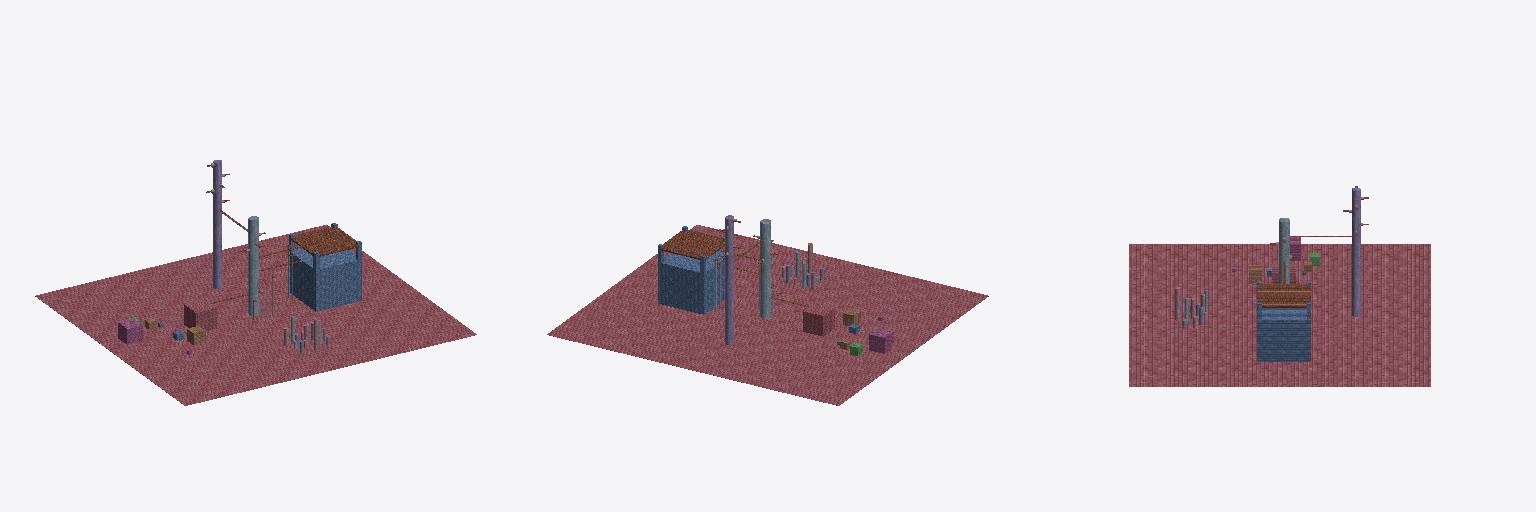
The picture shows the model from 3 angles: view 1: azimuth 30°, elevation 25°; view 2: azimuth 150°, elevation 25°; view 3: azimuth 270°, elevation 25°; orthographic projection.
Visible parts, largest first — view 1: Floor_Cube_Cube.001, Cube_1_Cube.002, Cube.012_Cube.027, Tower_Cylinder, Tower.2_Cylinder.001, Cube_Cube.011, Cube.007_Cube.019; view 2: Floor_Cube_Cube.001, Cube_1_Cube.002, Cube.012_Cube.027, Tower_Cylinder, Tower.2_Cylinder.001, Cube_Cube.011; view 3: Floor_Cube_Cube.001, Cube_1_Cube.002, Cube.012_Cube.027, Tower_Cylinder, Tower.2_Cylinder.001.
Boxes of the visible parts, <box> form: Floor_Cube_Cube.001: <box>35,225,476,405</box>; Cube_1_Cube.002: <box>290,248,361,311</box>; Cube.012_Cube.027: <box>291,226,357,256</box>; Tower_Cylinder: <box>213,160,221,288</box>; Tower.2_Cylinder.001: <box>248,216,258,315</box>; Cube_Cube.011: <box>184,299,216,330</box>; Cube.007_Cube.019: <box>118,319,142,344</box>; Floor_Cube_Cube.001: <box>547,225,988,405</box>; Cube_1_Cube.002: <box>658,251,724,314</box>; Cube.012_Cube.027: <box>661,230,724,259</box>; Tower_Cylinder: <box>725,215,733,344</box>; Tower.2_Cylinder.001: <box>760,219,770,318</box>; Cube_Cube.011: <box>803,303,834,336</box>; Floor_Cube_Cube.001: <box>1129,244,1430,386</box>; Cube_1_Cube.002: <box>1257,300,1310,361</box>; Cube.012_Cube.027: <box>1258,284,1310,307</box>; Tower_Cylinder: <box>1352,187,1360,316</box>; Tower.2_Cylinder.001: <box>1279,218,1289,283</box>.
Size of the model in its own units: 234 by 102 by 209.
Materials: 68 (9 with a texture image).